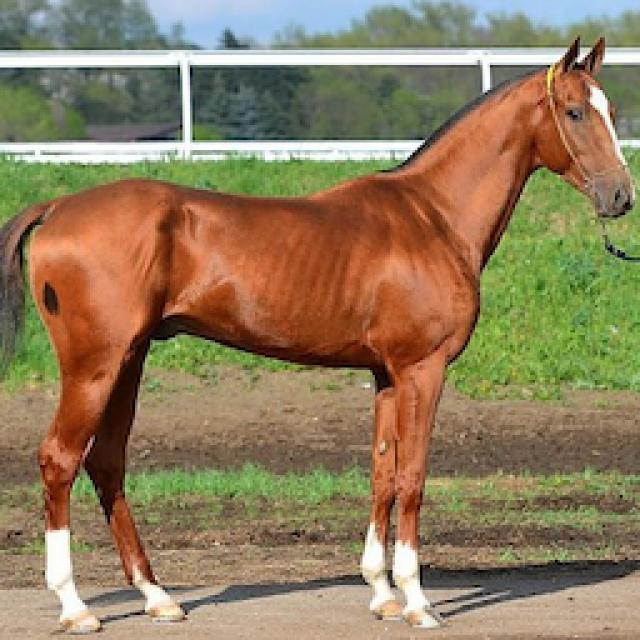Horse: (0, 30, 638, 635)
